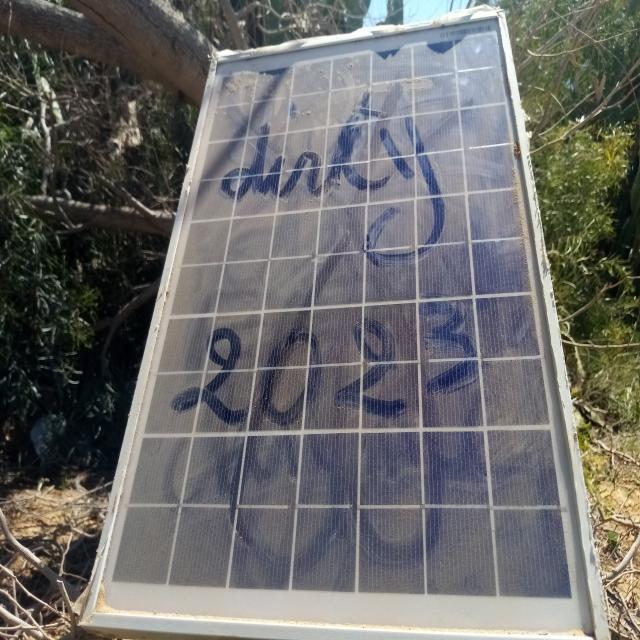faulty: (89, 10, 606, 638)
